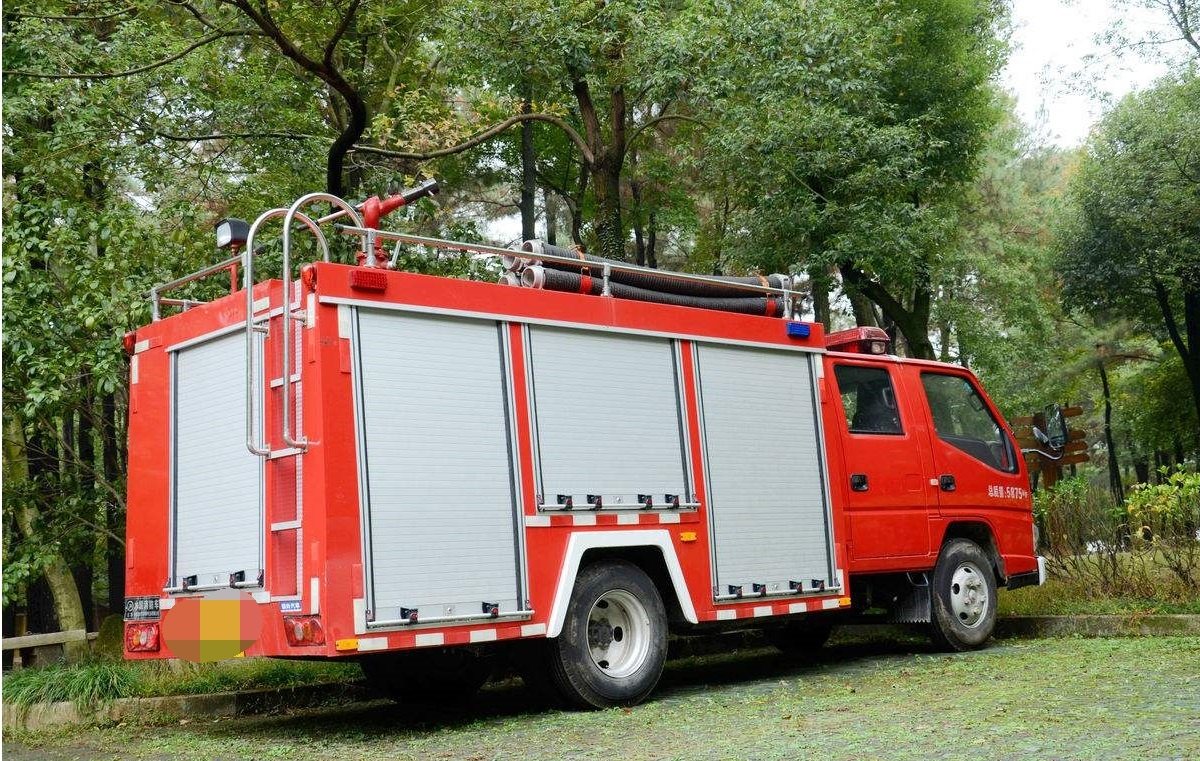fire engine: (148, 204, 1059, 706)
